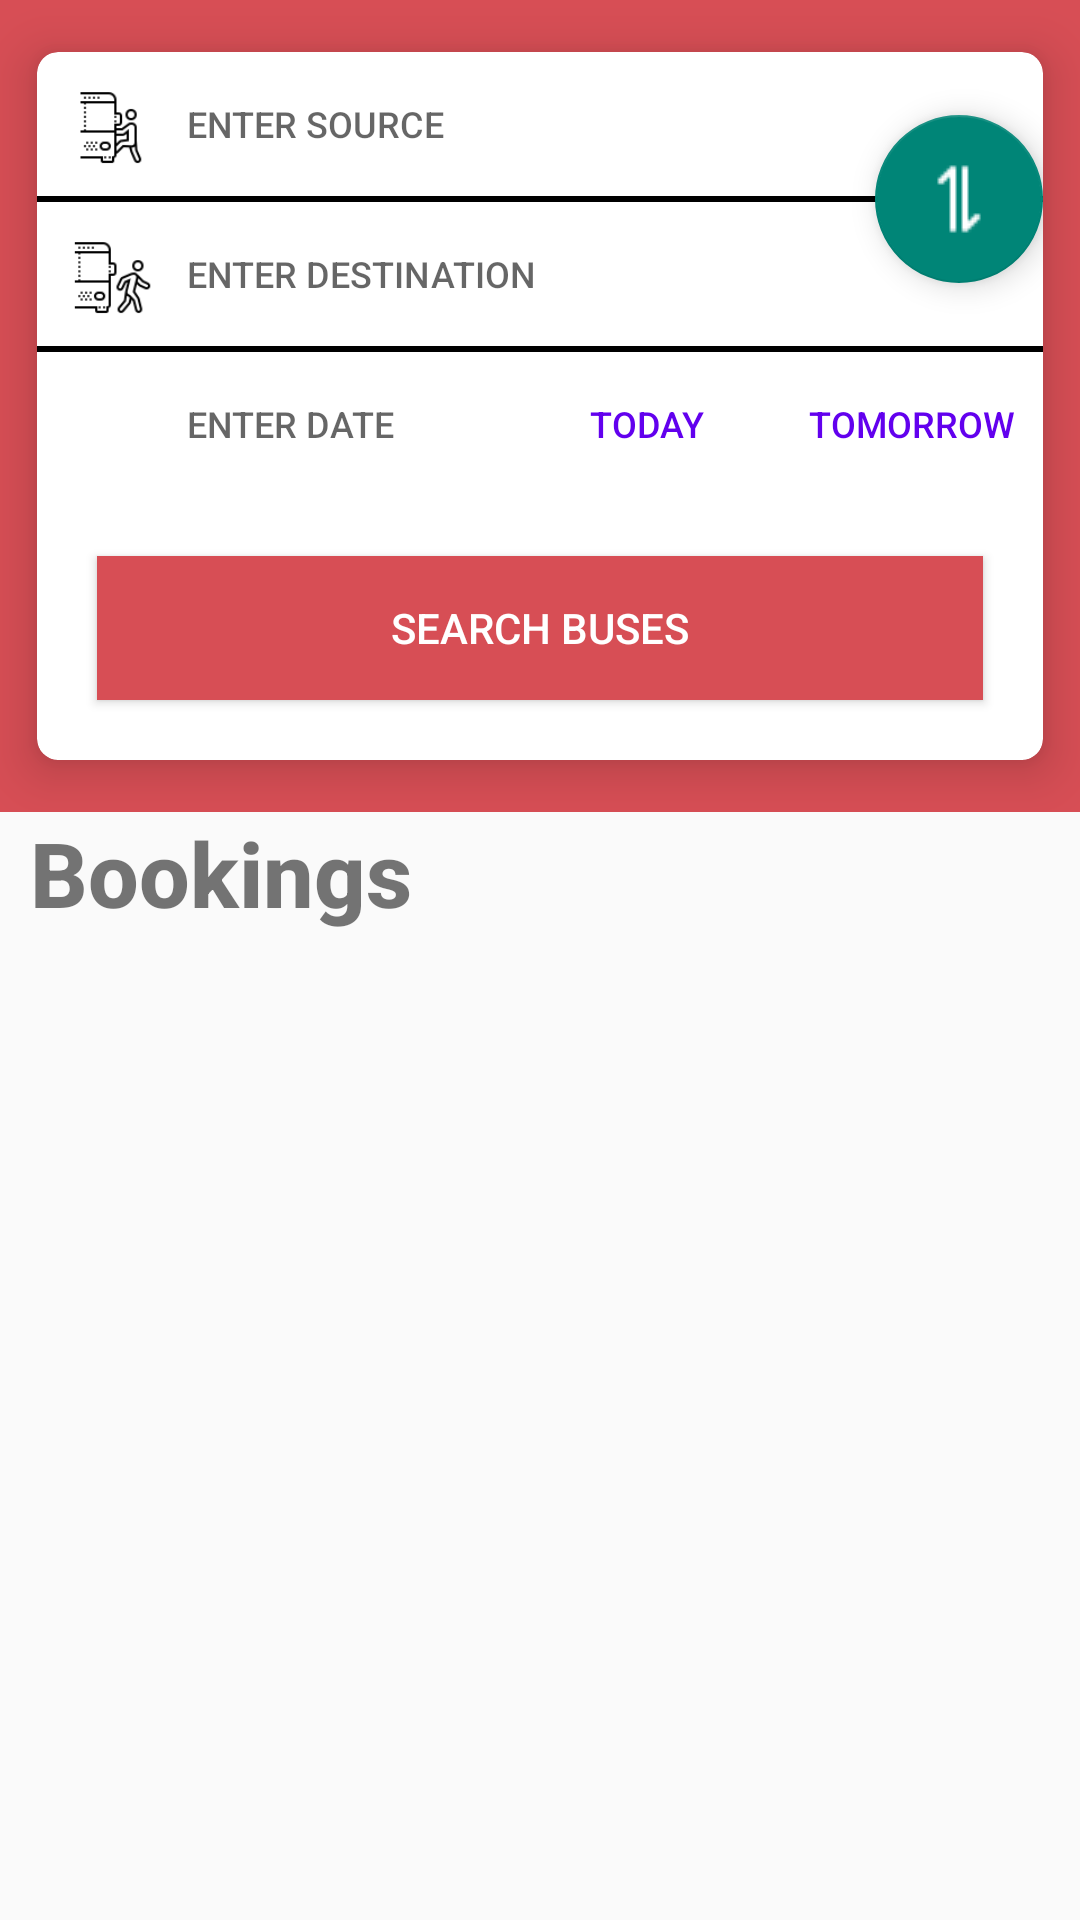

Point at icon controls on the screen. Image size 1080×1920, points as point (x, y).
exchange: point (959, 199)
get off bus: point (112, 277)
